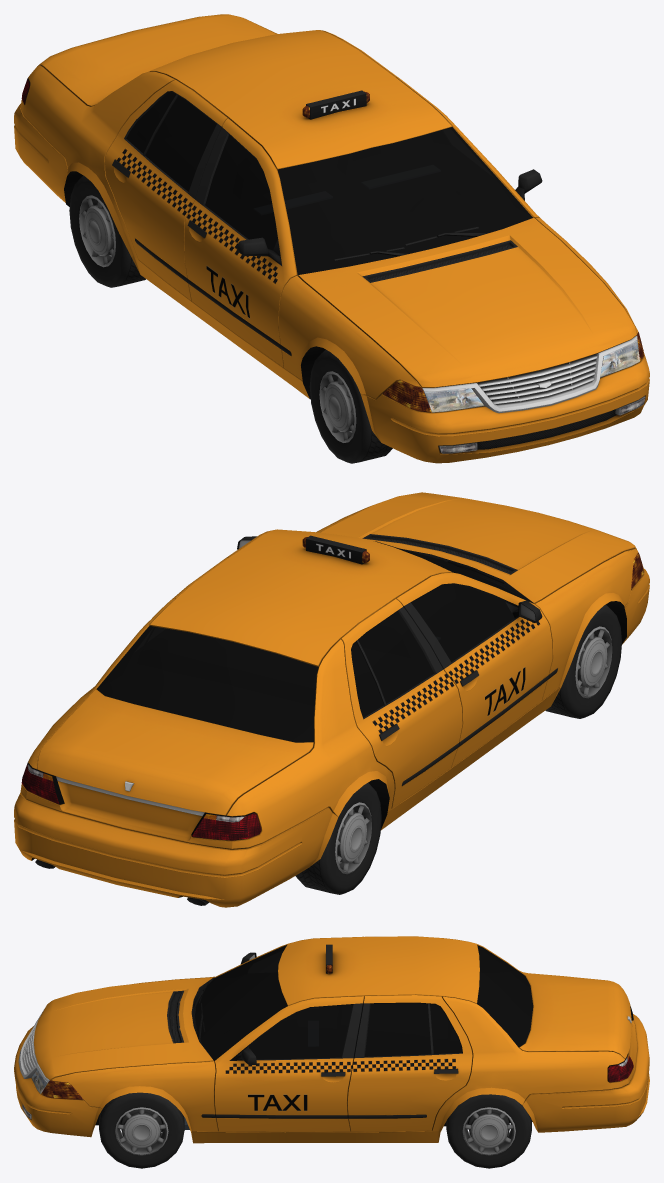
File: taxi.glb
The picture shows the model from 3 angles, top to bottom: view 1: azimuth 30°, elevation 25°; view 2: azimuth 150°, elevation 25°; view 3: azimuth 270°, elevation 25°; orthographic projection. The views are drawn at different scales.
Visible parts, largest first — view 1: Body (×2), Door skin and glass (×3), TyreRim (×4), Lamp head; view 2: Body (×2), Door skin and glass (×2), TyreRim (×4), Lamp brake; view 3: Body (×2), Door skin and glass (×3), TyreRim (×4), Lamp head, Lamp brake.
Part boxes in pixels (<box>): Body (×2): <box>14,14,649,463</box>; Door skin and glass (×3): <box>184,86,558,385</box>; TyreRim (×4): <box>69,175,392,463</box>; Lamp head: <box>382,332,645,453</box>; Body (×2): <box>14,492,649,907</box>; Door skin and glass (×2): <box>407,572,571,770</box>; TyreRim (×4): <box>295,605,621,894</box>; Lamp brake: <box>21,761,261,840</box>; Body (×2): <box>14,936,649,1143</box>; Door skin and glass (×3): <box>185,996,352,1134</box>; TyreRim (×4): <box>99,1092,531,1168</box>; Lamp head: <box>22,1069,83,1118</box>; Lamp brake: <box>607,1006,633,1082</box>.
Bounding box in the file's own units: 1.81 × 1.36 × 4.6.
7 materials, 6 textured.
